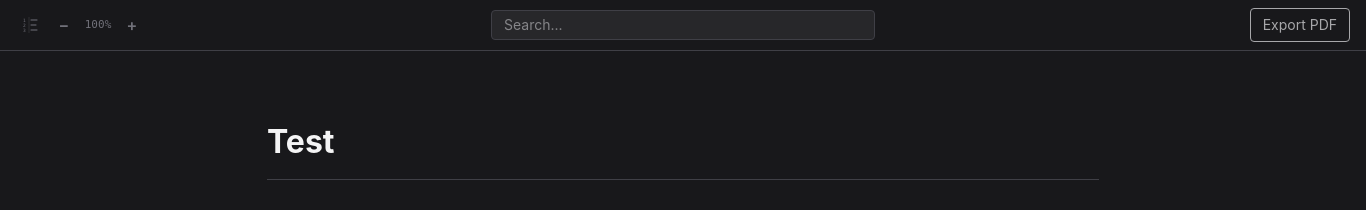
Scenario: MarkdownViewer › zoom reset returns to 100%
The width and height of the screenshot is (1366, 210).
Expected: the button "100%" is shown, [76,13,120,37]
Click the button "+".
click(132, 25)  # box [120,13,144,37]
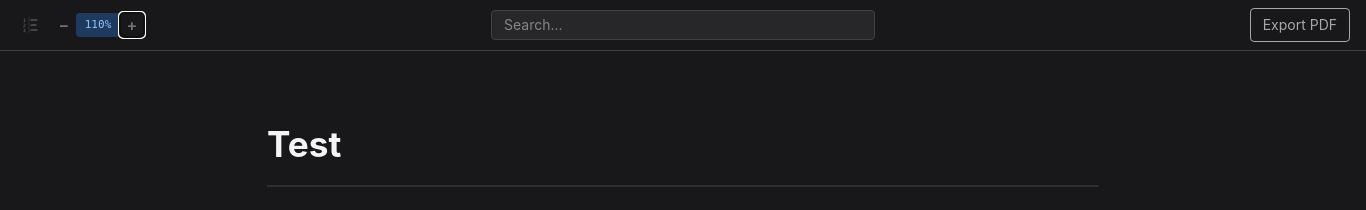
Click the button "+".
click(132, 25)  # box [120,13,144,37]
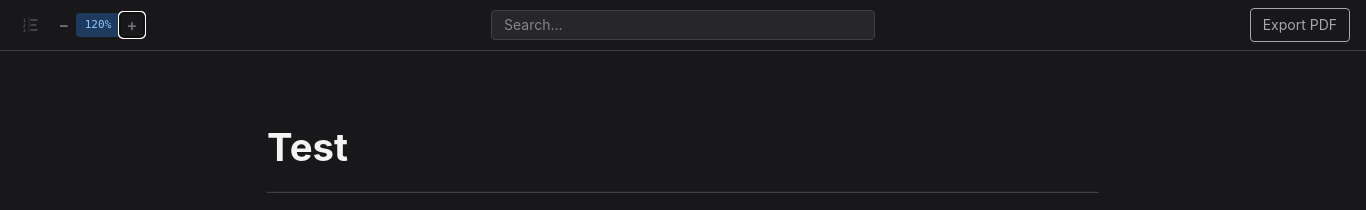
Now the button "120%" is shown
Click the button "120%".
click(98, 25)  # box [76,13,120,37]
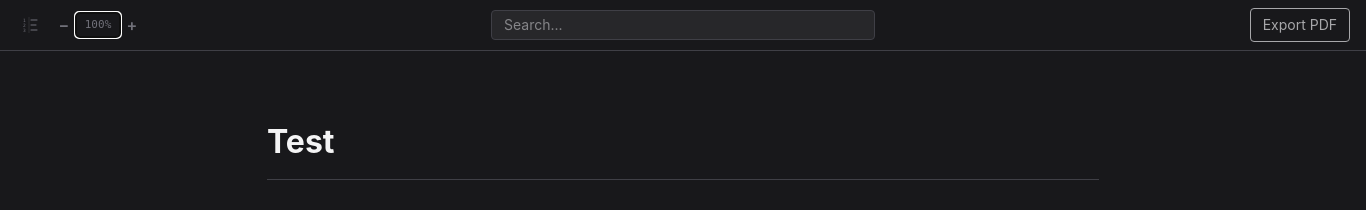
Now the button "100%" is shown, box [76,13,120,37]
